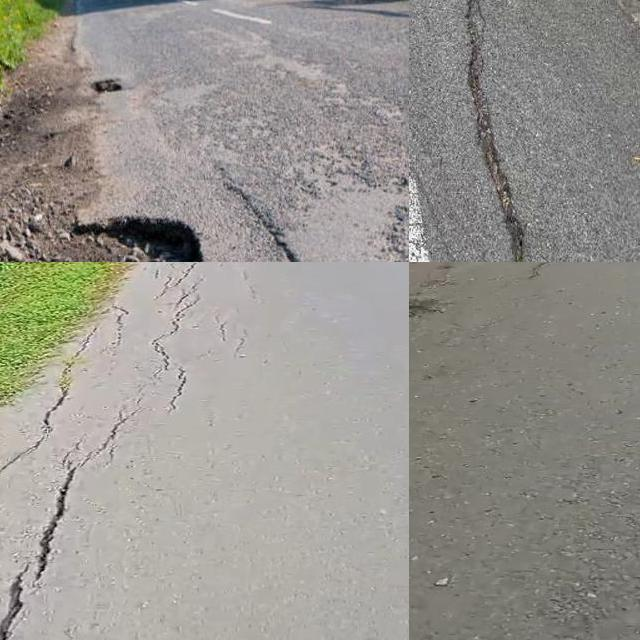Memanjang: (0, 394, 156, 640), (435, 0, 577, 262)
Pinggir: (0, 262, 147, 477), (409, 262, 563, 345)
